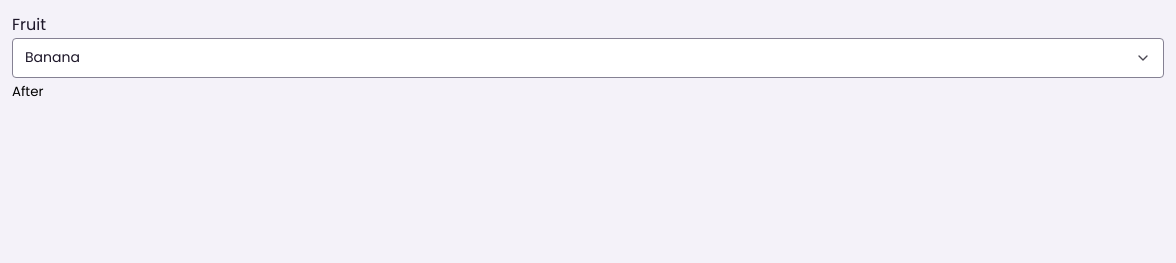
Test: Dropdown › portal and outside click › a second click on the control closes it
The width and height of the screenshot is (1176, 263).
Click the dropdown named "Fruit". click: (52,57)
box: [12, 38, 1164, 78]
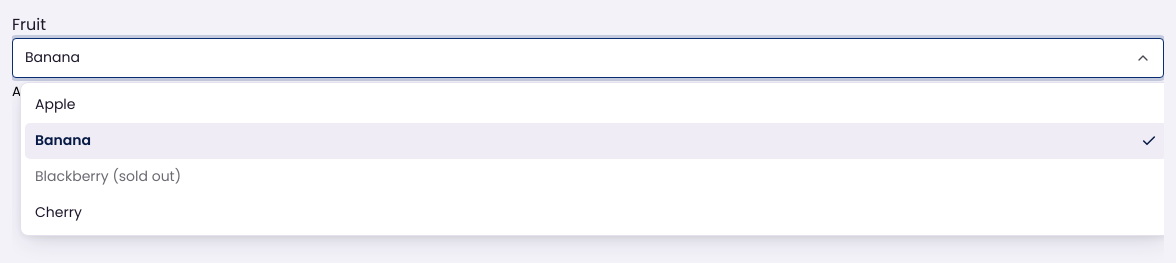
Click the dropdown named "Fruit". click: (52,57)
box: [12, 38, 1164, 78]
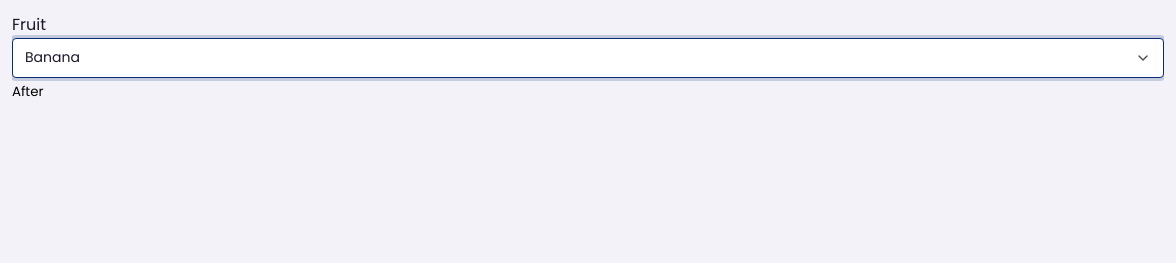
Expected: the list is gone
